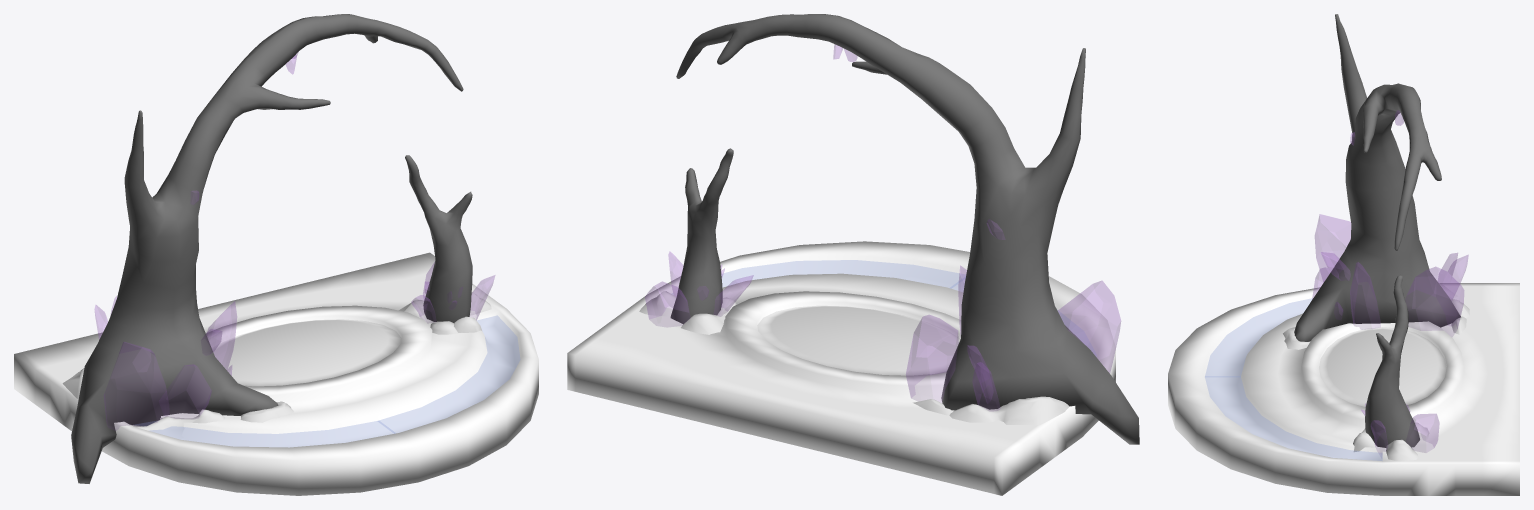
Rendered from Portal.fbx.
3 renders of one model, left to right at view 1: azimuth 30°, elevation 25°; view 2: azimuth 150°, elevation 25°; view 3: azimuth 270°, elevation 25°, orthographic. The views are drawn at different scales.
Visible parts, largest first — view 1: LPPortalBase, LPPortalTree, Crystal, WaterPlane; view 2: LPPortalBase, LPPortalTree, Crystal, WaterPlane; view 3: LPPortalBase, LPPortalTree, Crystal, WaterPlane.
Boxes of the visible parts, x1,y1,x2,y2 form: LPPortalBase: (14,252,538,495); LPPortalTree: (71,14,472,483); Crystal: (94,52,495,430); WaterPlane: (135,315,520,447); LPPortalBase: (567,241,1115,495); LPPortalTree: (670,14,1139,444); Crystal: (645,44,1120,410); WaterPlane: (672,260,1095,355); LPPortalBase: (1168,281,1519,495); LPPortalTree: (1294,14,1460,447); Crystal: (1312,110,1468,454); WaterPlane: (1205,298,1382,460).
Size of the model in its own units: 5.26 by 4.21 by 3.99.
